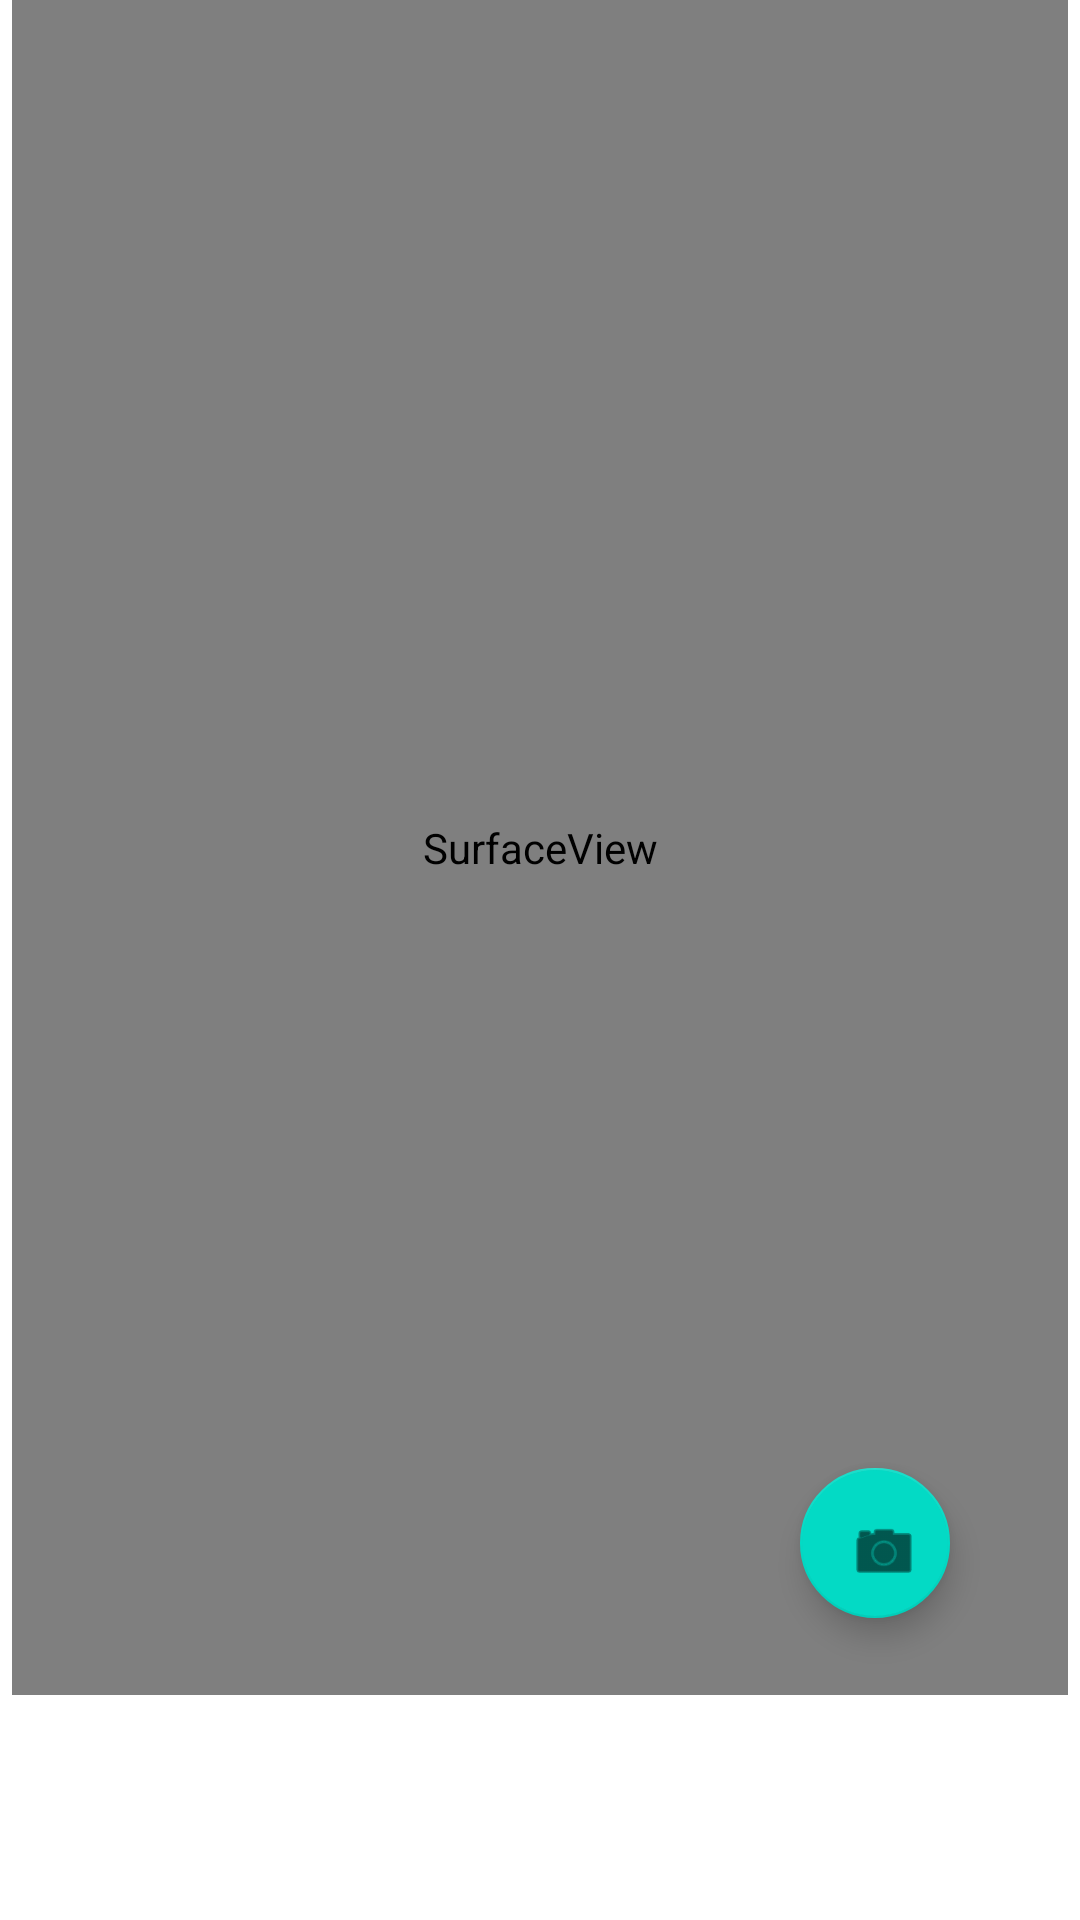

Where icons sit on this 1080w x 1920h app screen, as [x1,y1,x2,y2]:
camera: [800,1468,950,1618]
